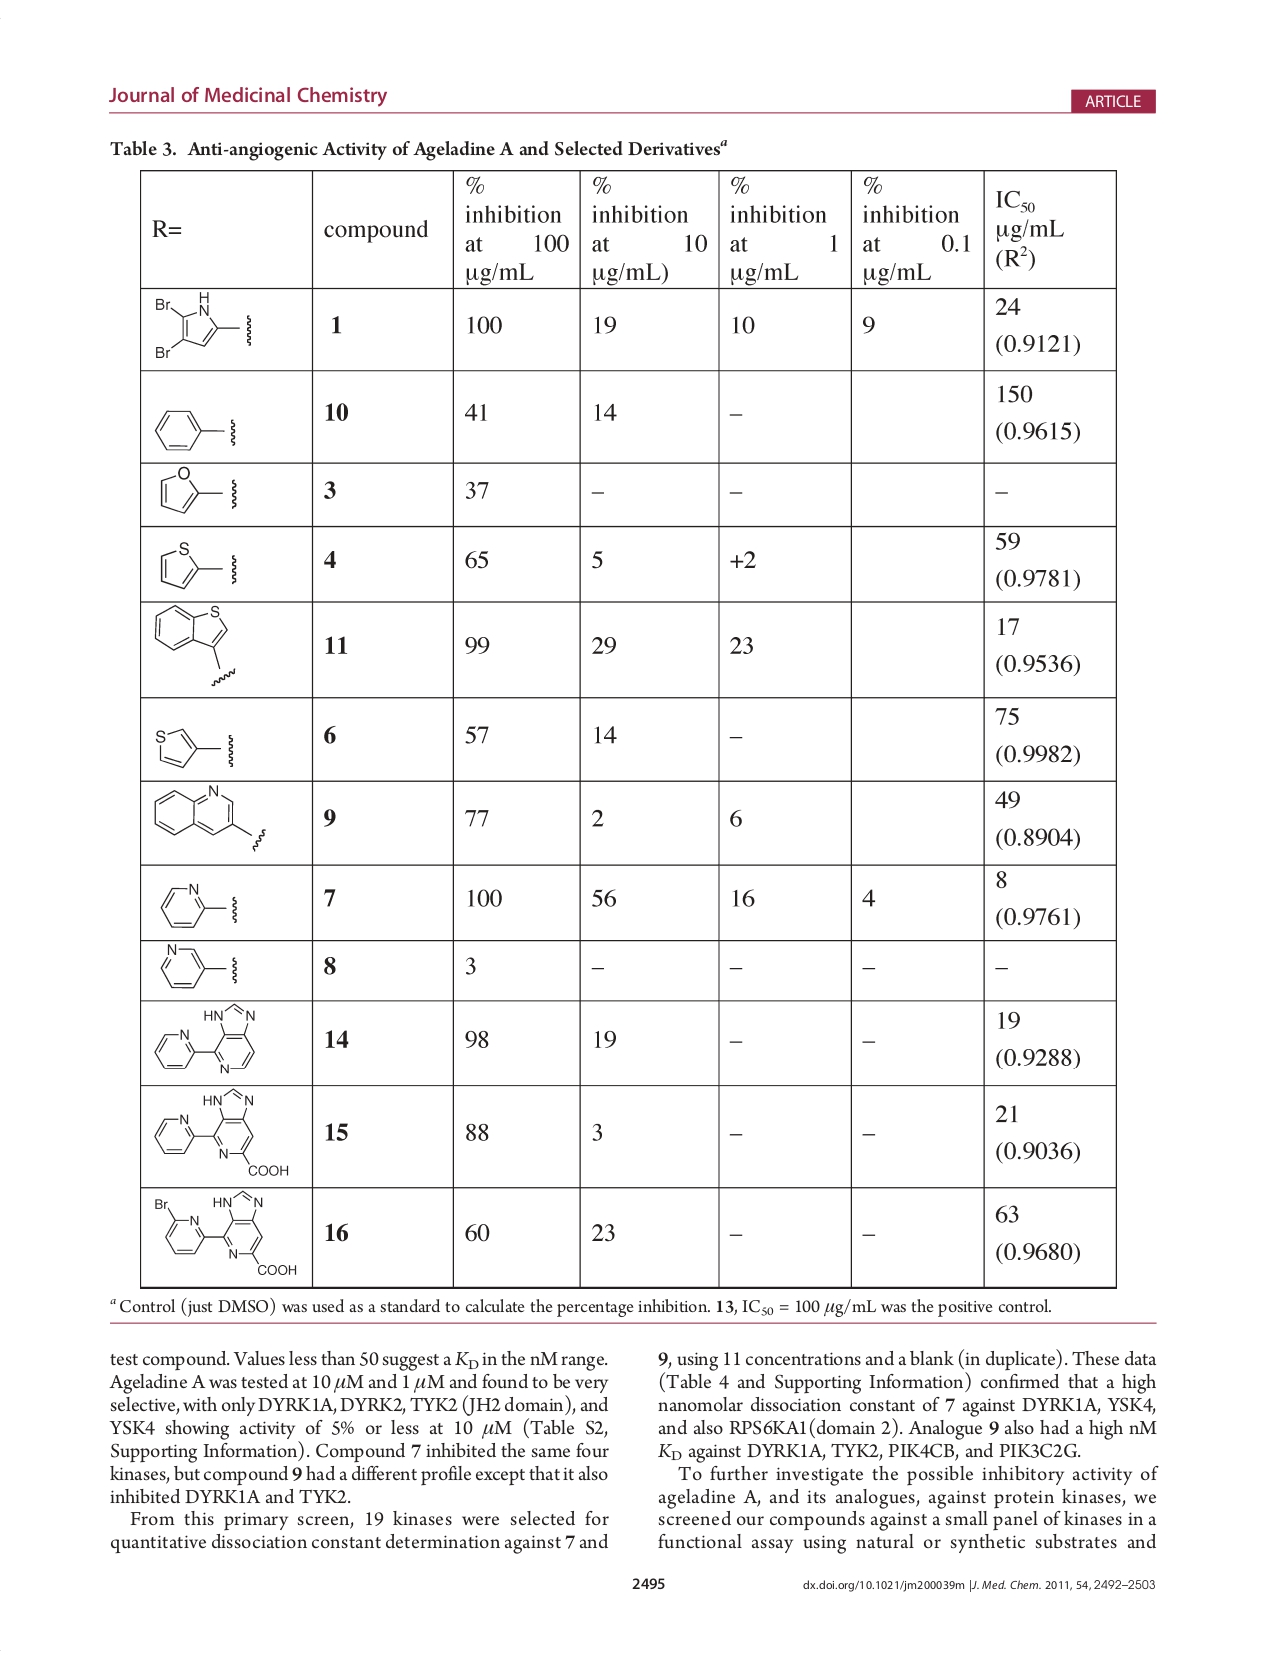exist_molecular: (150, 1084, 293, 1180), (153, 1188, 301, 1279), (152, 999, 261, 1075), (149, 602, 242, 689), (152, 785, 269, 852), (153, 291, 254, 363), (152, 406, 239, 457), (156, 540, 241, 592), (156, 465, 239, 516), (158, 882, 239, 934), (157, 943, 242, 992), (152, 725, 237, 773)
